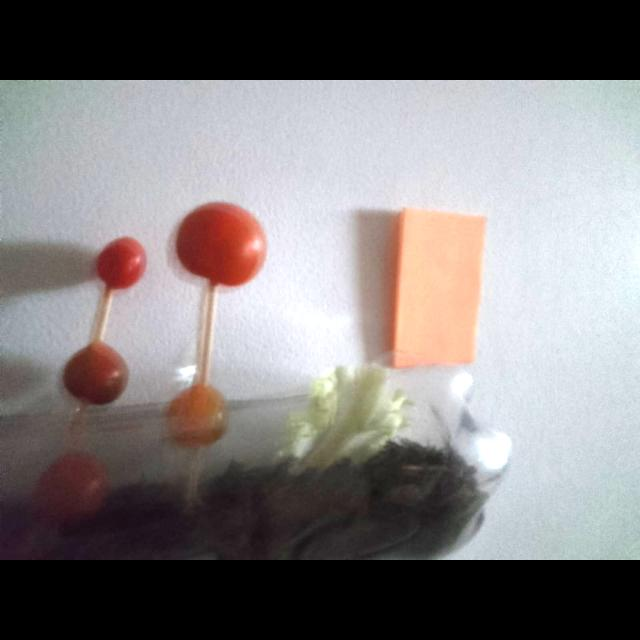card: (392, 208, 485, 366)
fruit_maturation: (167, 384, 228, 448)
fully_grown: (176, 202, 266, 286), (34, 451, 107, 521), (63, 342, 128, 405), (97, 238, 145, 289)
